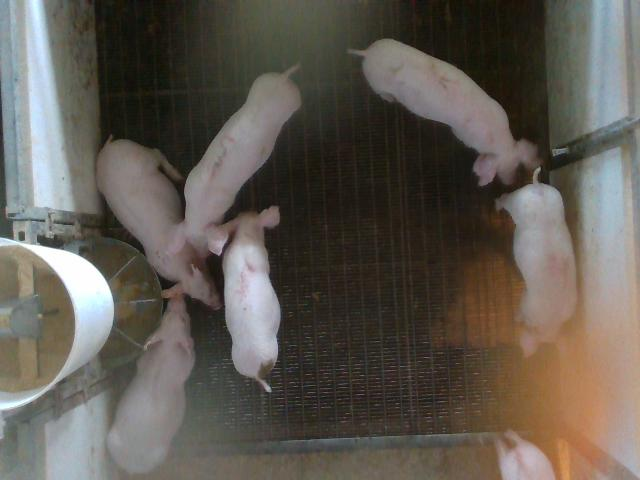pig-3: (169, 64, 301, 255)
pig-4: (496, 168, 578, 354)
pig-5: (222, 206, 281, 391)
